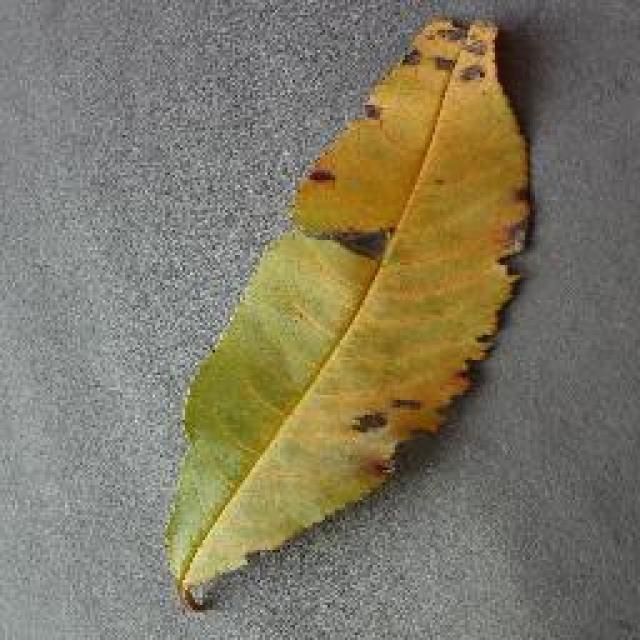Peach_Bacterial_Spot: (275, 52, 508, 485)
